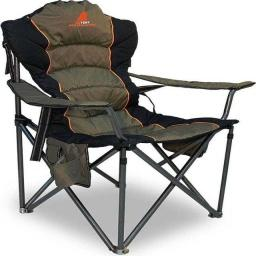Chair: (5, 3, 251, 247)
